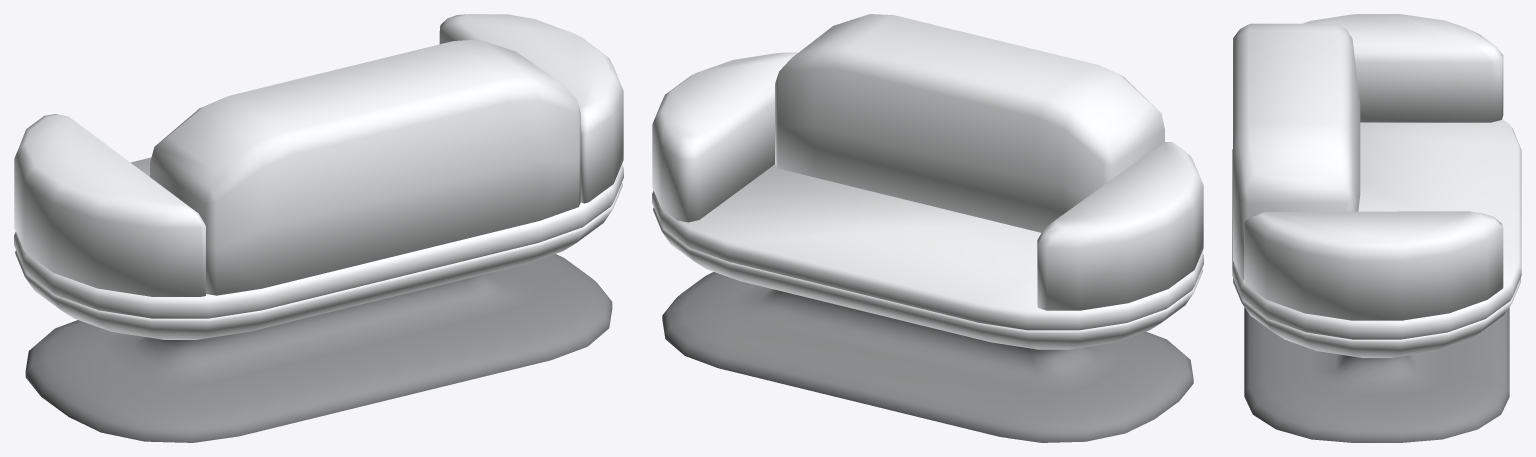
File: Couch_White.fbx
3 views of the same model, side by side, from view 1: azimuth 30°, elevation 25°; view 2: azimuth 150°, elevation 25°; view 3: azimuth 270°, elevation 25° (orthographic). The views are drawn at different scales.
Visible parts, largest first — view 1: Couch; view 2: Couch; view 3: Couch.
Part boxes in pixels (x1,y1,x2,y2): Couch: (14,14,623,442); Couch: (652,14,1203,442); Couch: (1232,14,1521,442).
Bounding box in the file's own units: 160 × 79.34 × 82.11.
